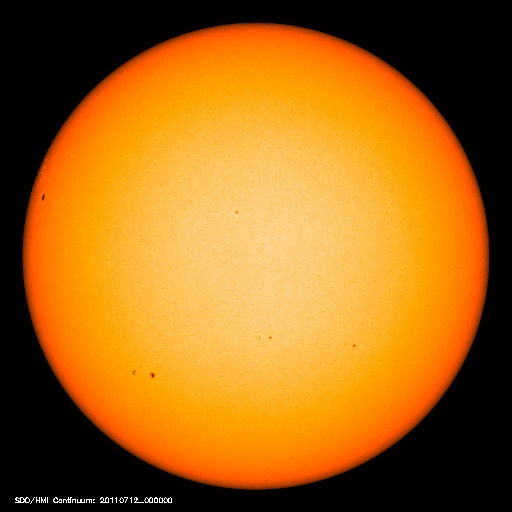sunspot: (28, 182, 62, 213), (122, 361, 164, 385), (243, 325, 283, 348), (220, 201, 252, 227), (342, 333, 364, 355)
